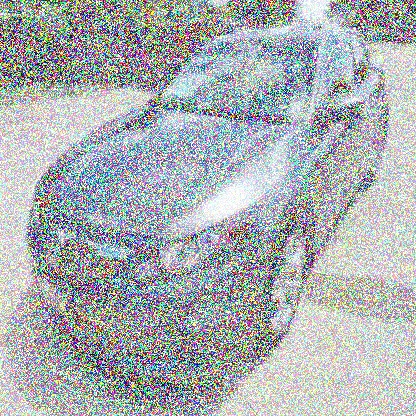Vehicle: (30, 30, 392, 390)
